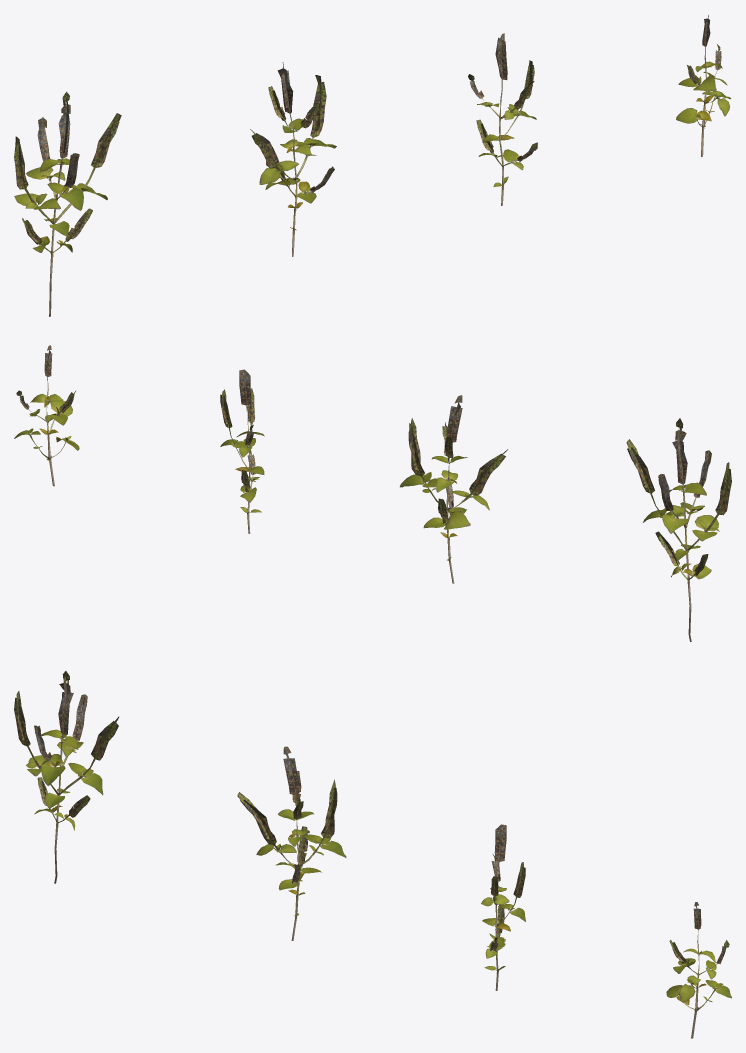
Rendered from shrub_03.glb.
The picture shows the model from 3 angles, top to bottom: view 1: azimuth 30°, elevation 25°; view 2: azimuth 150°, elevation 25°; view 3: azimuth 330°, elevation 25°; orthographic projection. The views are drawn at different scales.
Parts seen in each view (by area): view 1: shrub_03_a; view 2: shrub_03_a; view 3: shrub_03_a.
Part boxes in pixels (x1=…): shrub_03_a: x1=14, y1=15, x2=731, y2=316; shrub_03_a: x1=14, y1=345, x2=731, y2=641; shrub_03_a: x1=14, y1=671, x2=731, y2=1038.
Bounding box in the file's own units: 1.37 × 0.4029 × 0.1512.
1 material, 1 textured.
